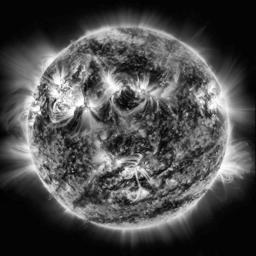solar flares: (95, 152, 141, 178), (47, 85, 81, 111), (101, 76, 120, 97), (85, 96, 99, 122), (134, 80, 148, 94), (209, 95, 217, 112), (205, 84, 215, 96)
sunspots: (126, 58, 161, 79), (110, 131, 138, 154), (67, 154, 86, 179), (59, 121, 81, 140), (158, 125, 171, 154), (88, 63, 98, 100), (154, 198, 179, 211), (115, 91, 134, 108), (90, 43, 114, 56), (98, 109, 116, 123), (83, 190, 101, 204), (185, 73, 201, 88)
